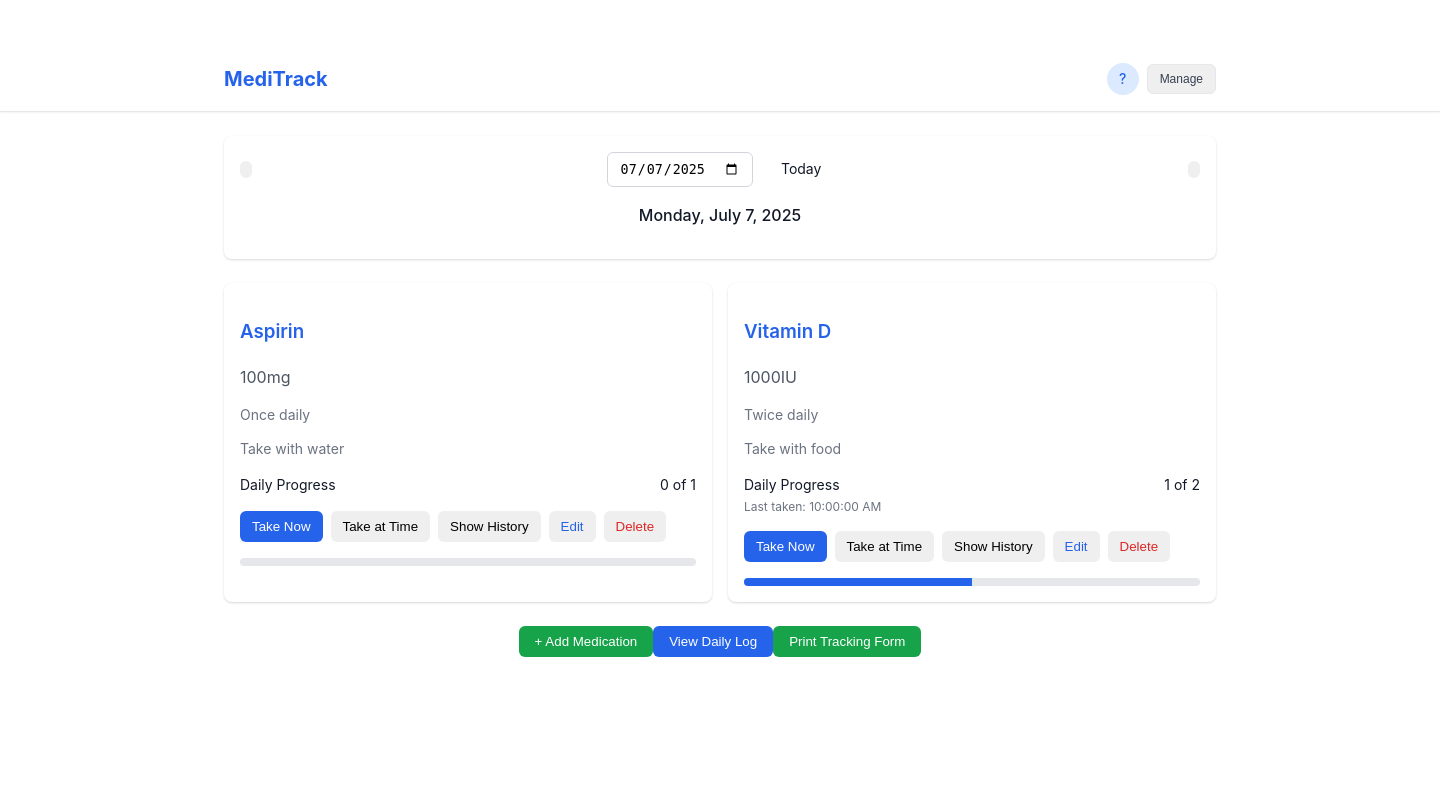
Test: MedicationTracker › Medication CRUD Operations › shows add medication form when button is clicked
Click the button "+ Add Medication" at {"x": 586, "y": 641}, box [519,626,653,657]
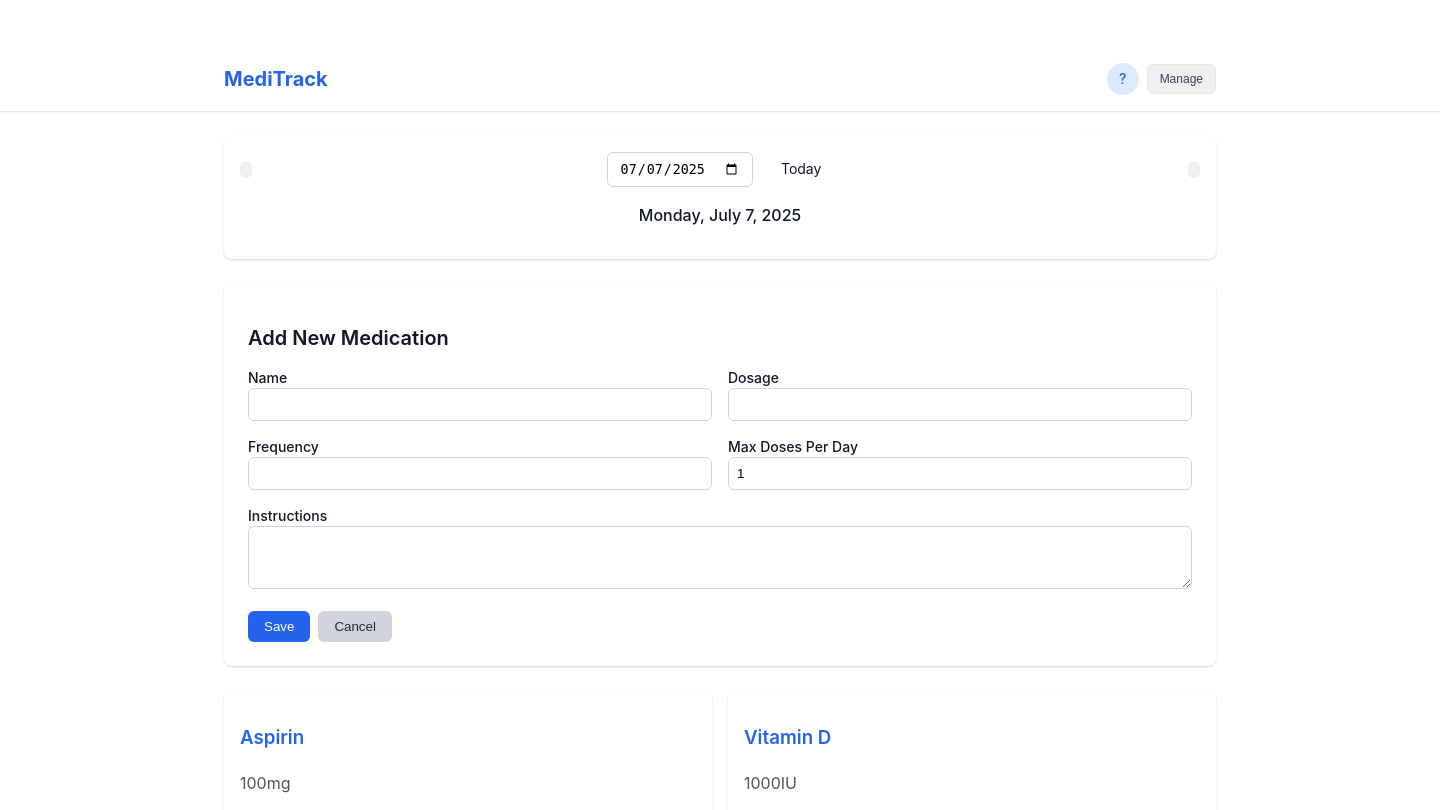
Expected: the heading "Add New Medication" is shown, [248,326,449,350]
Expected: the field labelled "Name" is shown, [248,388,712,421]
Expected: the field labelled "Dosage" is shown, [728,388,1192,421]
